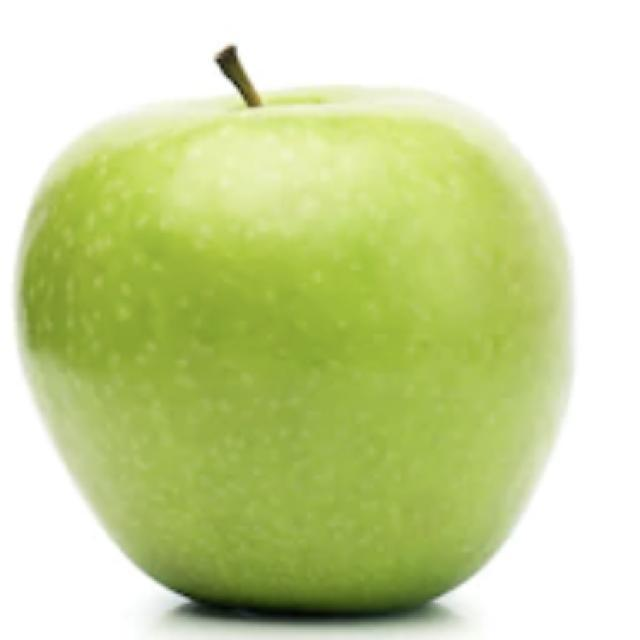Apple: (14, 43, 575, 616)
